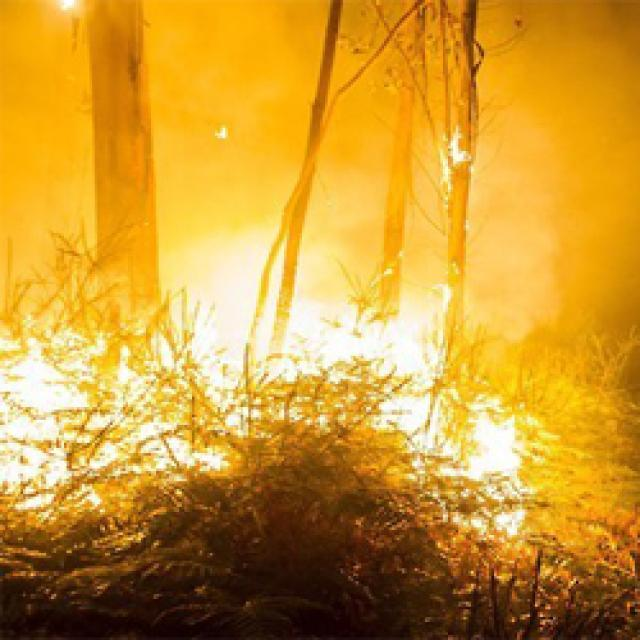Fire: (0, 258, 280, 533), (160, 222, 453, 452), (332, 254, 549, 548)
Smoke: (0, 0, 640, 289)
